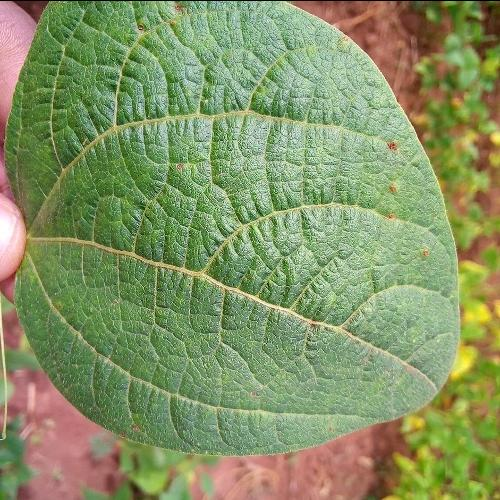hawar: (30, 176, 96, 244), (372, 136, 409, 234), (126, 0, 200, 48), (399, 246, 435, 264)
mozaik: (136, 100, 320, 414)
